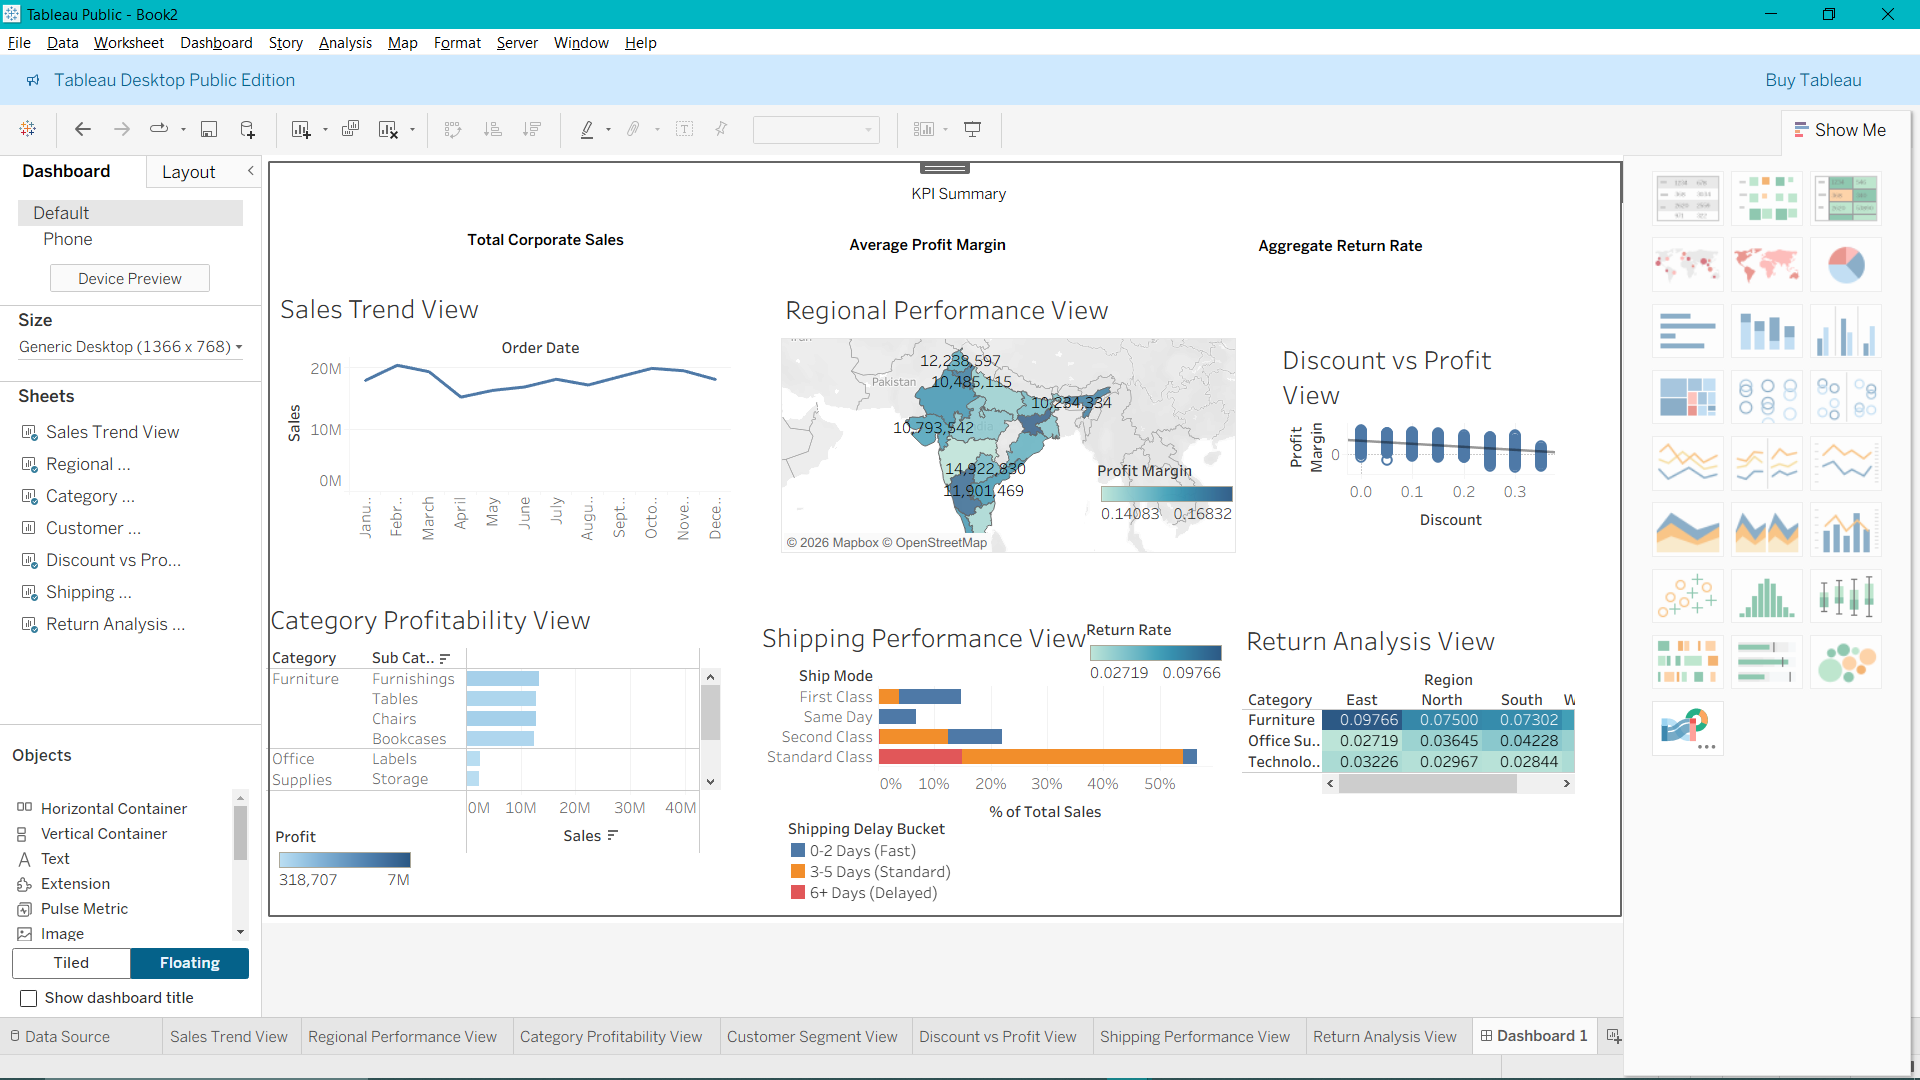

This screenshot's page, from the dashboard's own definition file:
{"tool":"tableau","page":{"name":"Dashboard 1","canvas":[1366,768],"ordinal":0},"visuals":[{"type":"text","box":[8,8,1350,752]},{"type":"text","box":[646,23,102,30]},{"type":"text","box":[202,70,164,30]},{"type":"text","box":[584,75,164,30]},{"type":"text","box":[993,76,171,30]},{"type":"worksheet","title":"Sales Trend View","mark":"Automatic","rows":["sales"],"cols":["order_date"],"box":[14,132,455,256]},{"type":"worksheet","title":"Regional Performance View","mark":"Automatic","box":[519,133,455,265]},{"type":"worksheet","title":"Discount vs Profit View","mark":"Automatic","rows":["Calculation_1286171301912577"],"cols":["discount"],"box":[1016,183,277,199]},{"type":"legend","title":"Regional Performance View","param":"[federated.1fp9yx91cpcbyr1d26n7z1mhaju0].[usr:Calculation_1286171301912577:qk]","box":[835,305,140,88]},{"type":"worksheet","title":"Category Profitability View","mark":"Automatic","rows":["category","sub_category"],"cols":["sales"],"box":[4,443,455,256]},{"type":"worksheet","title":"Shipping Performance View","mark":"Automatic","rows":["ship_mode"],"cols":["sales"],"box":[496,461,455,256]},{"type":"legend","title":"Return Analysis View","param":"[federated.1fp9yx91cpcbyr1d26n7z1mhaju0].[usr:Calculation_1286171302539268:qk]","box":[824,464,140,88]},{"type":"worksheet","title":"Return Analysis View","mark":"Square","rows":["category"],"cols":["region"],"box":[980,464,333,262]},{"type":"legend","title":"Shipping Performance View","param":"[federated.1fp9yx91cpcbyr1d26n7z1mhaju0].[none:Calculation_1286171302739973:nk]","box":[526,663,168,85]},{"type":"legend","title":"Category Profitability View","param":"[federated.1fp9yx91cpcbyr1d26n7z1mhaju0].[sum:profit:qk]","box":[13,671,140,88]}]}

Visuals, with their boxes on the page's 1366x768 design canvas (x1, y1, x2, y2). These are canvas units, not pixel positions in the 1920x1080 screenshot, which may show the page scaled, cropped or inside an application window:
text: Rect(8, 8, 1358, 760)
text: Rect(646, 23, 748, 53)
text: Rect(202, 70, 366, 100)
text: Rect(584, 75, 748, 105)
text: Rect(993, 76, 1164, 106)
"Sales Trend View" worksheet: Rect(14, 132, 469, 388)
"Regional Performance View" worksheet: Rect(519, 133, 974, 398)
"Discount vs Profit View" worksheet: Rect(1016, 183, 1293, 382)
"Regional Performance View" legend: Rect(835, 305, 975, 393)
"Category Profitability View" worksheet: Rect(4, 443, 459, 699)
"Shipping Performance View" worksheet: Rect(496, 461, 951, 717)
"Return Analysis View" legend: Rect(824, 464, 964, 552)
"Return Analysis View" worksheet (Square marks): Rect(980, 464, 1313, 726)
"Shipping Performance View" legend: Rect(526, 663, 694, 748)
"Category Profitability View" legend: Rect(13, 671, 153, 759)
